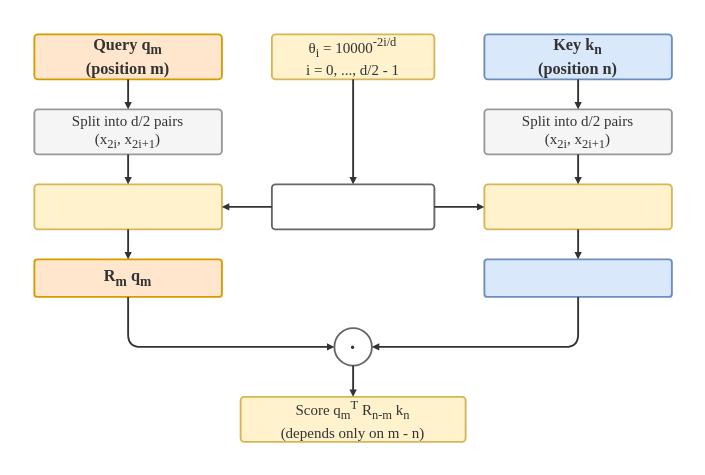
This 705x475 diagram has some shape labels left out. The centre of each missing label's shape, as x and y in pixels:
"cos pθ i , sin pθ i (p = m, n)" goes at (352,206).
"R n k n" goes at (577,277).
"Rotate pair i by angle mθ i" goes at (127,206).
"Rotate pair i by angle nθ i" goes at (577,206).
